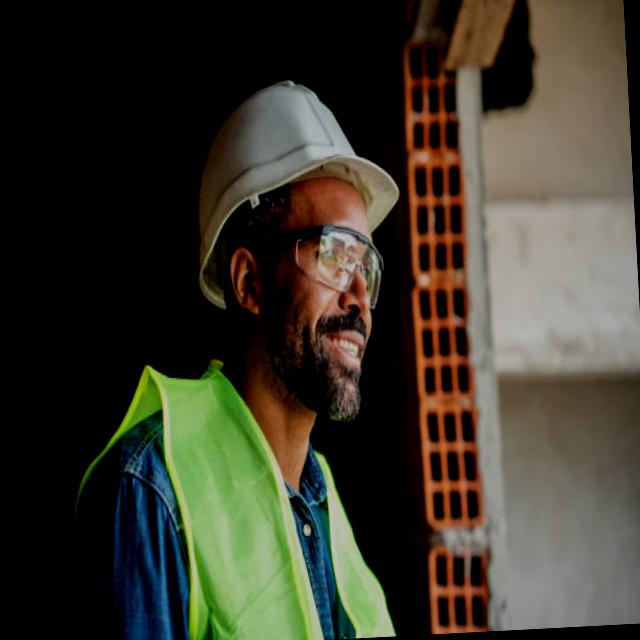goggles: (241, 214, 396, 321)
helmet: (182, 64, 409, 316)
vest: (60, 346, 413, 640)
